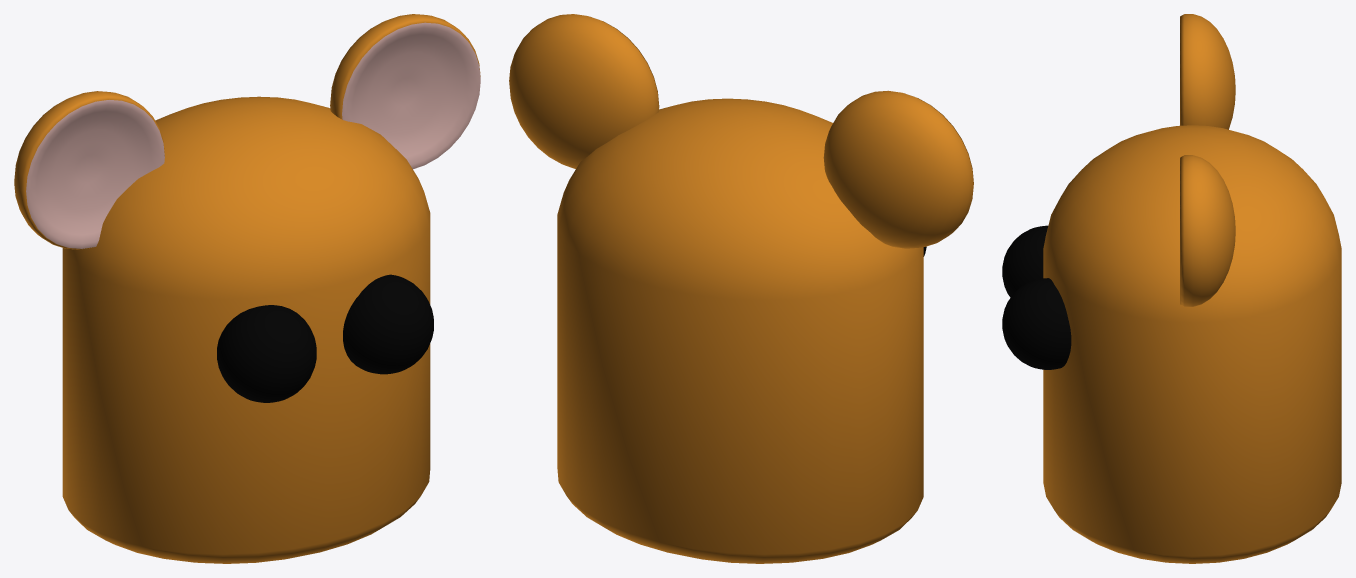
File: hamster.fbx
The picture shows the model from 3 angles, left to right: view 1: azimuth 30°, elevation 25°; view 2: azimuth 150°, elevation 25°; view 3: azimuth 270°, elevation 25°; orthographic projection. The views are drawn at different scales.
Parts seen in each view (by area): view 1: Body, EarL, EarR, EyeL, EyeR; view 2: Body, EarL, EarR; view 3: Body, EarR, EarL, EyeR, EyeL.
Boxes of the visible parts, left/top/right/bottom form: Body: left=62, top=96, right=430, bottom=563; EarL: left=14, top=91, right=164, bottom=249; EarR: left=330, top=14, right=480, bottom=169; EyeL: left=217, top=305, right=316, bottom=402; EyeR: left=343, top=274, right=433, bottom=374; Body: left=557, top=98, right=923, bottom=563; EarL: left=823, top=90, right=973, bottom=248; EarR: left=509, top=14, right=659, bottom=168; Body: left=1043, top=125, right=1341, bottom=563; EarR: left=1180, top=155, right=1235, bottom=306; EarL: left=1180, top=14, right=1235, bottom=129; EyeR: left=1002, top=278, right=1071, bottom=369; EyeL: left=1002, top=225, right=1048, bottom=297.
Bounding box in the file's own units: 277 × 270 × 194.
